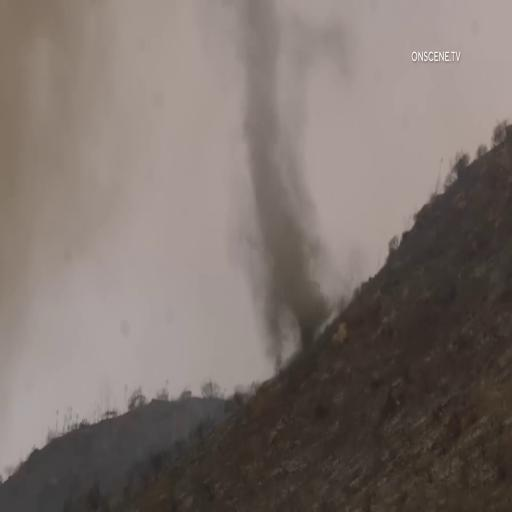smoke: (226, 5, 326, 335)
